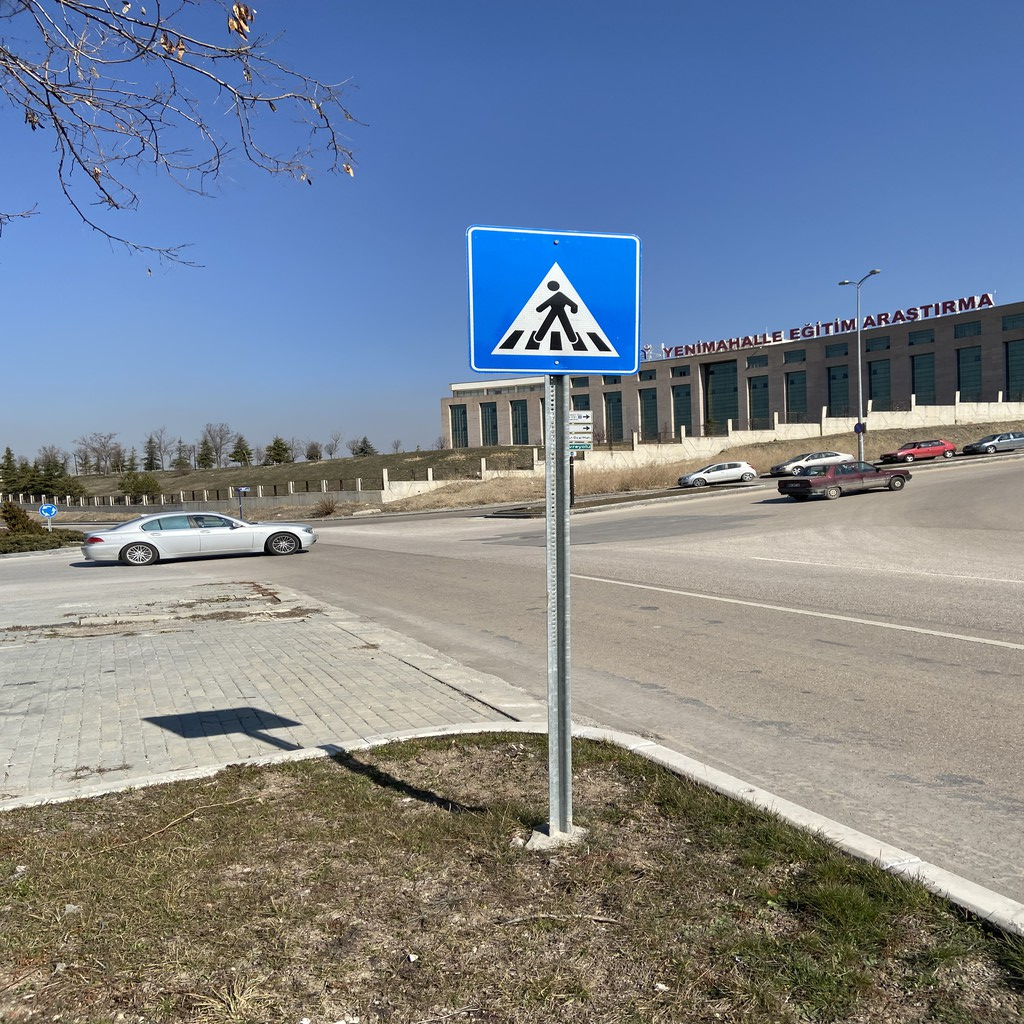Yaya Gecidi: (467, 229, 643, 374)
